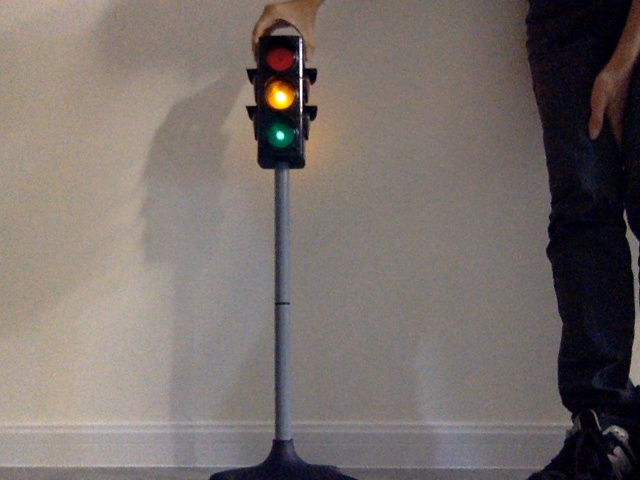yellow: (258, 43, 301, 163)
